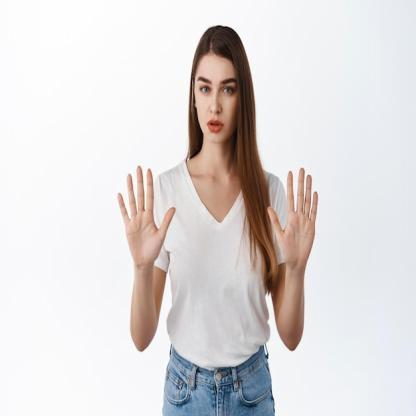stop: (262, 159, 324, 268), (112, 160, 174, 268)
